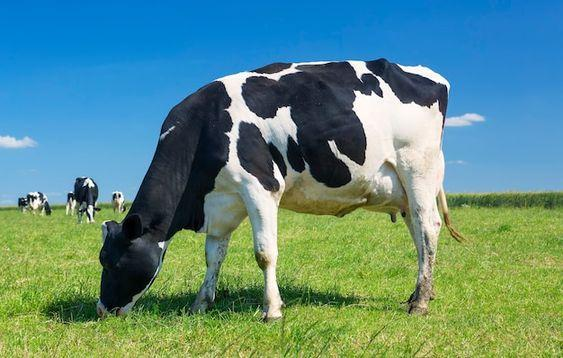cow: (52, 59, 506, 313)
